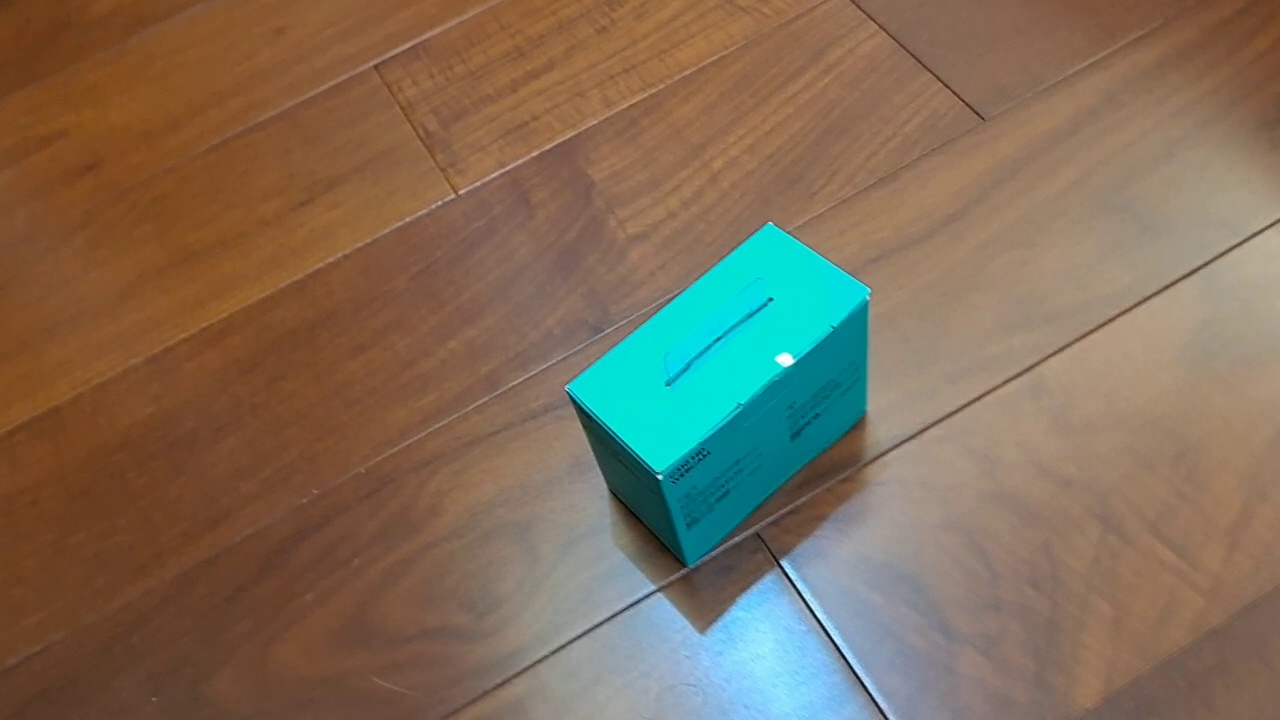webcam: (561, 218, 874, 571)
